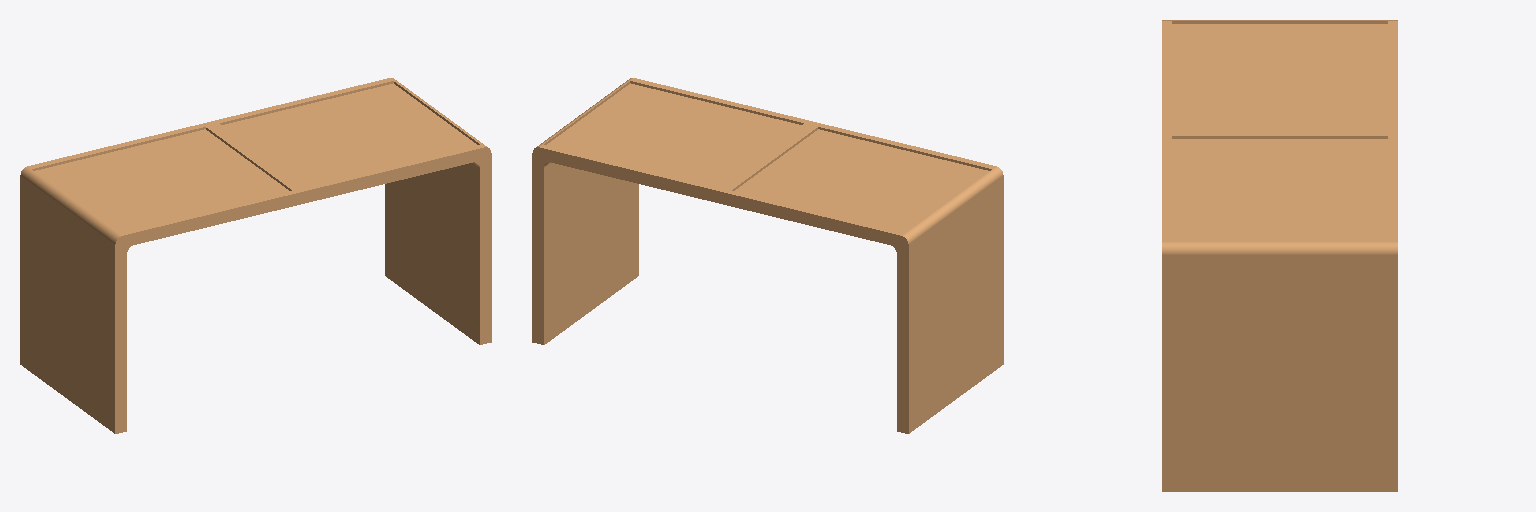
The robot description file, URDF, robot "wp_placement_table":
<?xml version="1.0"?>
<robot name="wp_placement_table">
    <link name="wp_placement_table_origin">
        <visual>
            <geometry>
                <mesh filename="package://process_visualiser/resources/meshes_resized/wp_placement_table.stl"
                      scale="1 1 1"/>
            </geometry>
            <material name="ABS" >
                <color rgba="0.9 0.7 0.5 1.0" />
            </material>
        </visual>
        <inertial>
            <origin xyz="0 0 0" rpy="0 0 0"/>
            <mass value="1"/>
            <inertia
                    ixx="1.0" ixy="0.0" ixz="0.0"
                    iyy="1.0" iyz="0.0"
                    izz="1.0"/>
        </inertial>

    </link>
    <link name="world"/>

    <joint name="fixed" type="fixed">
        <parent link="world"/>
        <child link="wp_placement_table_origin"/>
    </joint>

</robot>

--- Render facts (derived) ---
Views: 3 orthographic renders of the robot side by side, from view 1: azimuth 30°, elevation 25°; view 2: azimuth 150°, elevation 25°; view 3: azimuth 270°, elevation 25°.
Model wp_placement_table with 2 links and 1 joints (1 fixed), rooted at world, posed every joint at zero.
Visible links, largest first — view 1: wp_placement_table_origin; view 2: wp_placement_table_origin; view 3: wp_placement_table_origin.
Boxes of the visible links, x1,y1,x2,y2 form: wp_placement_table_origin: (20,78,491,433); wp_placement_table_origin: (532,78,1003,433); wp_placement_table_origin: (1162,20,1397,491).
Bounding box of the posed robot: 1.6 × 0.7 × 0.8 m (x, y, z).
1 mesh visuals loaded from 1 distinct referenced files (1 binary STL).